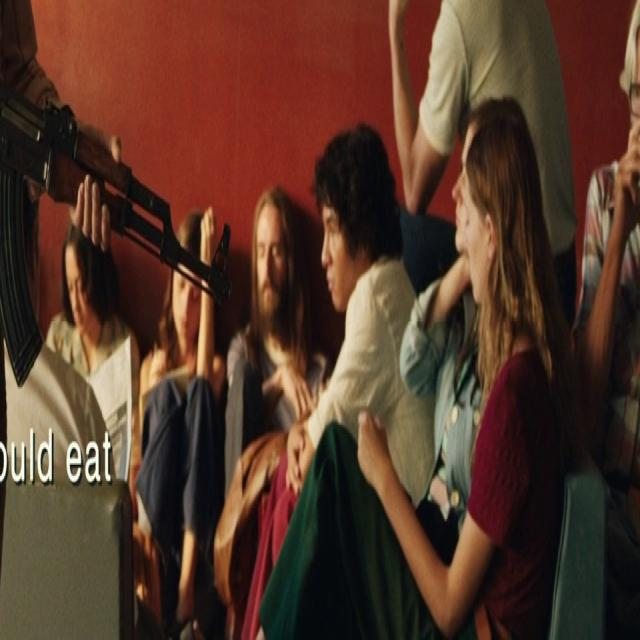Guns: (0, 39, 244, 375)
